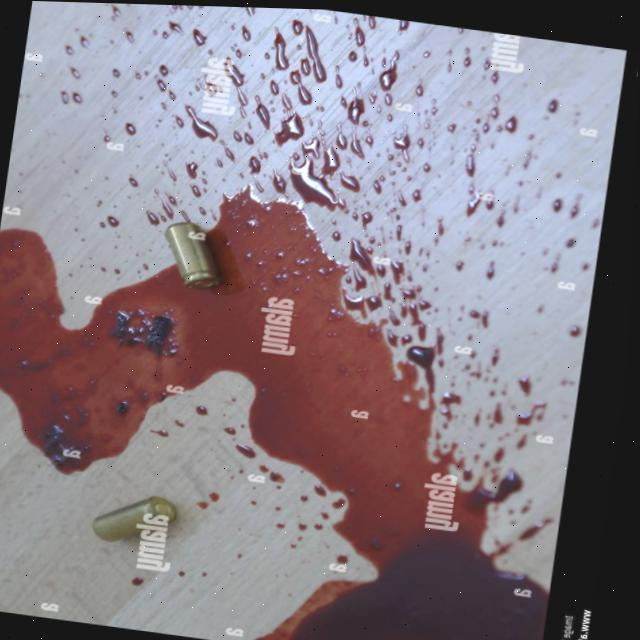knife: (65, 179, 253, 400), (249, 321, 431, 461), (287, 551, 549, 640), (16, 330, 151, 475), (299, 462, 486, 550), (253, 198, 352, 320), (0, 228, 63, 396), (285, 156, 339, 208), (473, 470, 526, 505), (222, 56, 250, 120), (393, 189, 425, 244), (297, 137, 340, 176), (299, 27, 328, 83), (183, 105, 220, 144), (400, 288, 428, 339), (408, 342, 436, 392), (376, 259, 408, 302), (144, 191, 177, 228), (346, 17, 369, 69), (465, 184, 496, 220), (342, 291, 383, 318), (333, 132, 375, 158), (274, 112, 306, 145), (155, 63, 176, 112), (348, 235, 374, 272), (339, 96, 368, 129), (433, 440, 466, 469), (515, 401, 550, 428), (379, 49, 402, 90), (287, 70, 313, 106), (270, 31, 290, 72), (268, 79, 292, 113), (463, 364, 500, 386), (370, 92, 396, 123), (252, 93, 272, 133), (257, 461, 283, 485), (393, 131, 412, 163), (488, 70, 500, 119), (439, 392, 460, 419), (386, 307, 400, 347), (247, 151, 271, 174), (337, 172, 362, 193), (487, 401, 504, 430), (435, 327, 447, 368), (349, 266, 367, 293), (496, 114, 520, 134), (233, 442, 257, 462), (160, 19, 182, 40), (469, 307, 490, 328), (59, 89, 83, 107), (233, 130, 256, 146), (190, 27, 208, 47), (184, 161, 202, 180), (271, 175, 287, 195), (373, 175, 387, 195), (465, 153, 476, 178), (359, 209, 374, 225), (290, 18, 303, 36)
